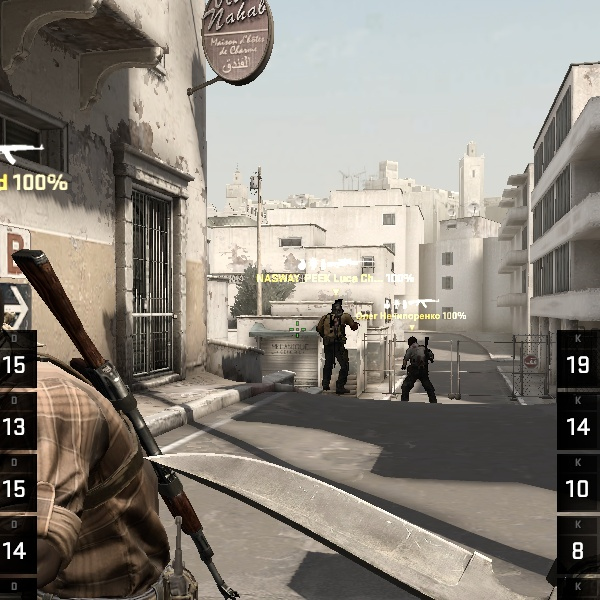t_body: (5, 256, 195, 600), (316, 299, 359, 393), (399, 336, 436, 404)
t_head: (331, 298, 343, 315), (407, 337, 418, 349)
